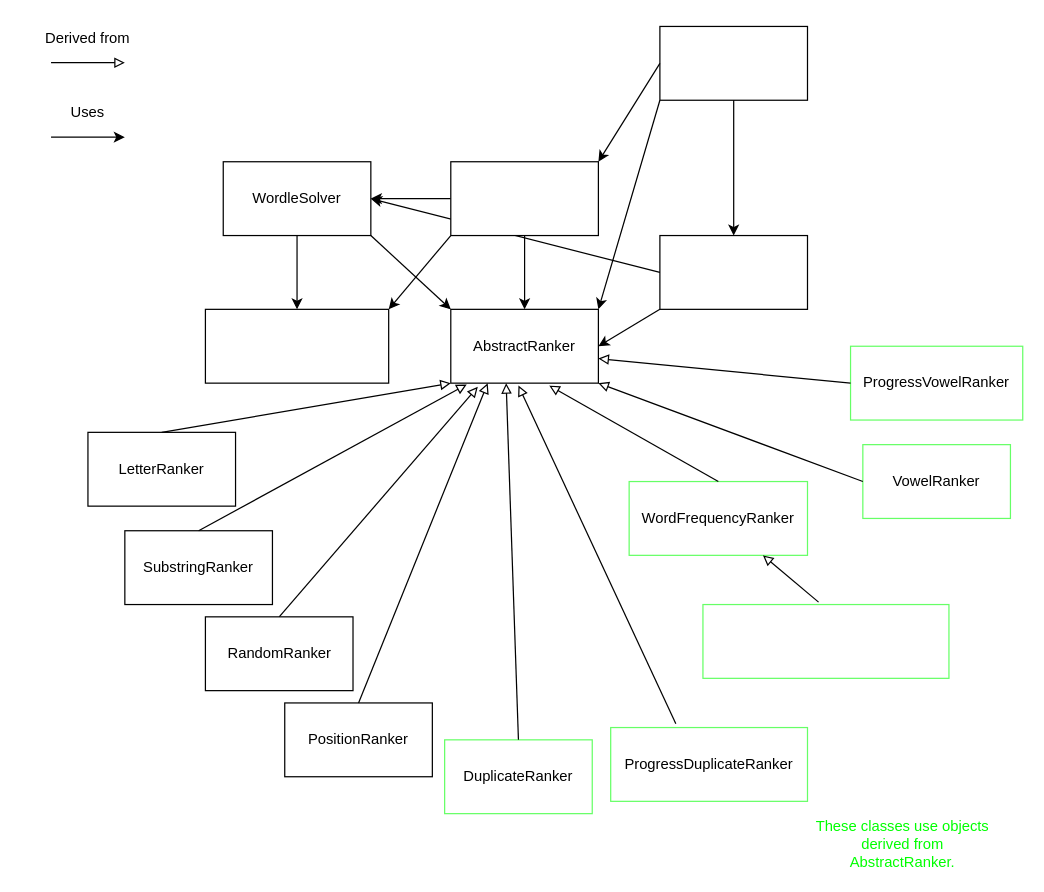
Some shapes in this 1044 by 892 pixel diagram are drawn without their labels. The centre of each missing label's shape, as x and y in pixels:
evaluation.h: (x=524, y=198)
main.cpp: (x=733, y=62)
ProgressWordFrequencyRanker: (x=825, y=640)
user.h: (x=733, y=271)
WordleSolverException: (x=296, y=345)
